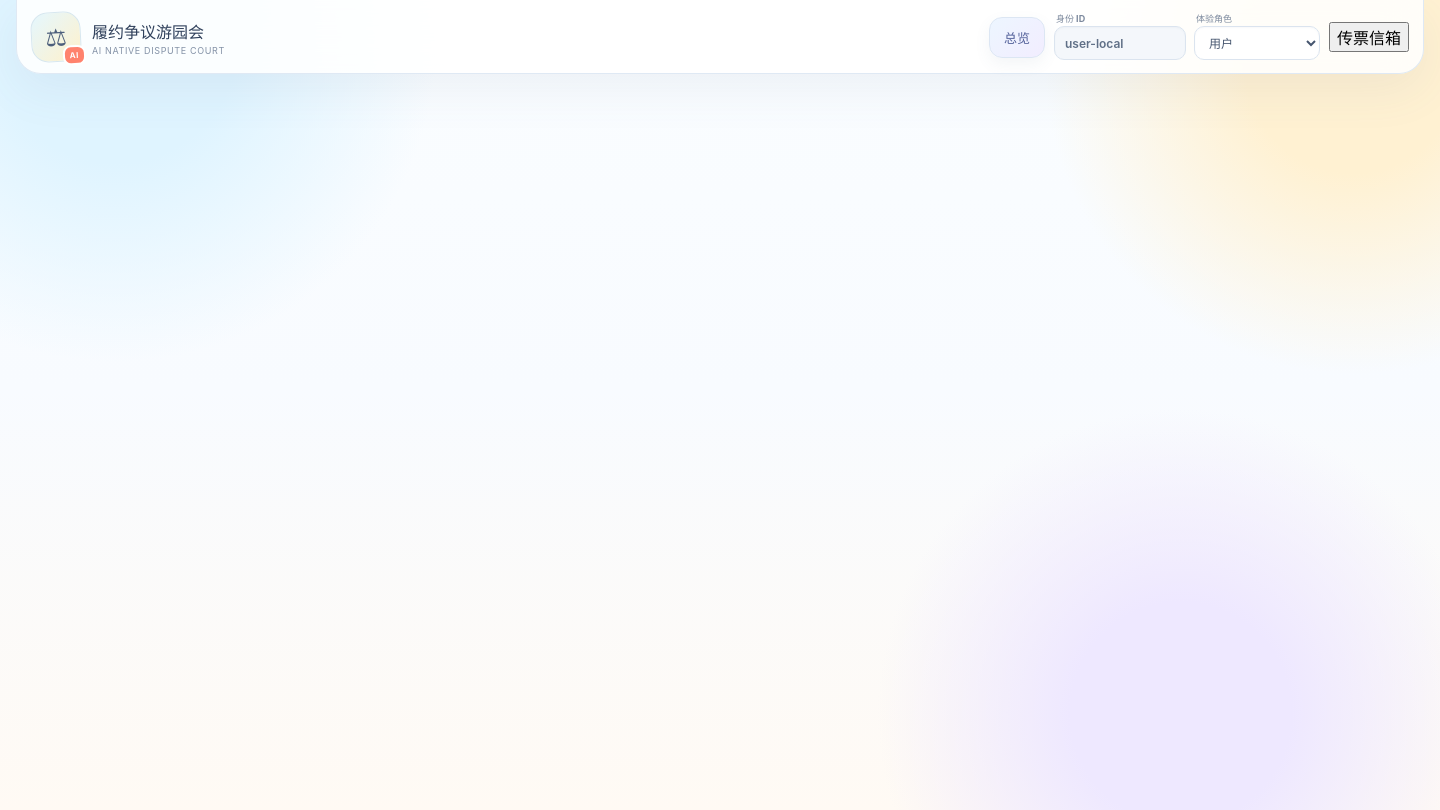
App shell › uses fixed demo actor ids and returns to the dispute overview when switching identity
The width and height of the screenshot is (1440, 810).
Expected: the field named "身份 ID" holds "user-local", [1054,26,1186,60]
Step 1. Select "商家" in the dropdown named "体验角色" → (1257, 43), box [1194,26,1320,60]
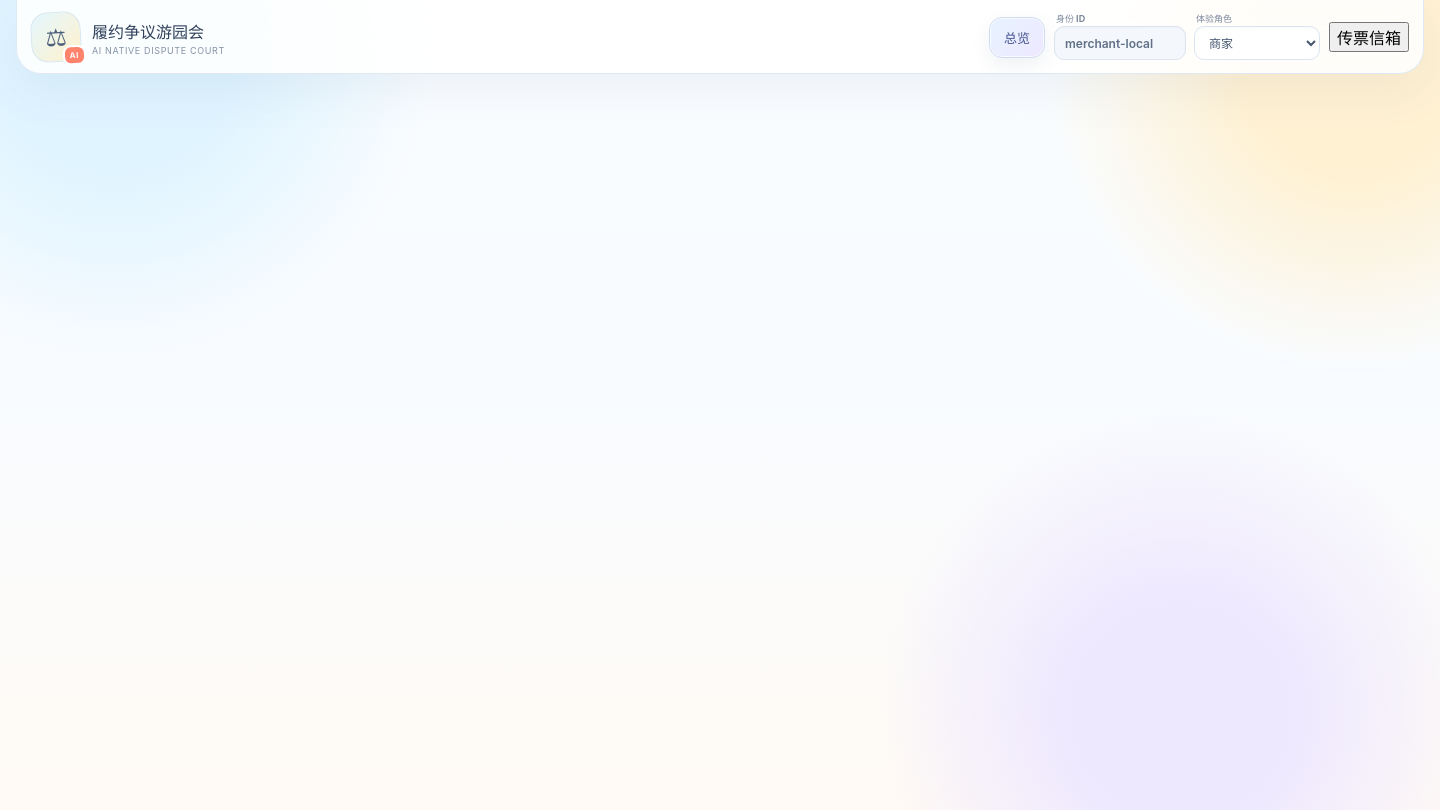
Now the field named "身份 ID" holds "merchant-local", box [1054,26,1186,60]
